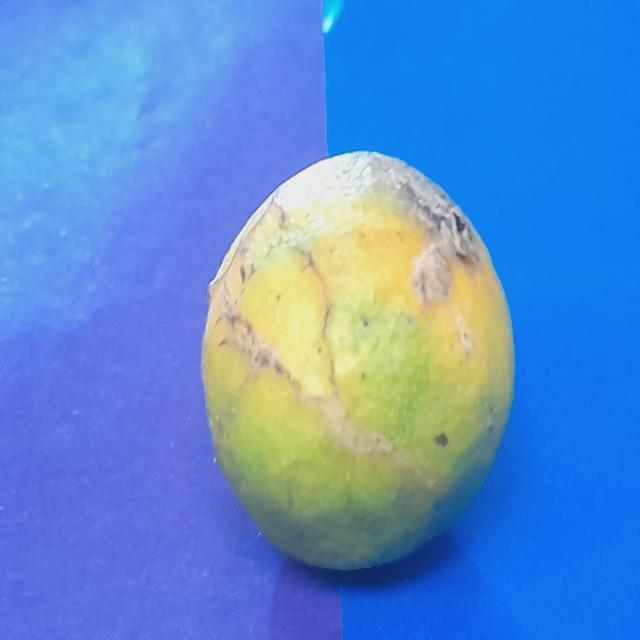thrips: (194, 153, 512, 568)
